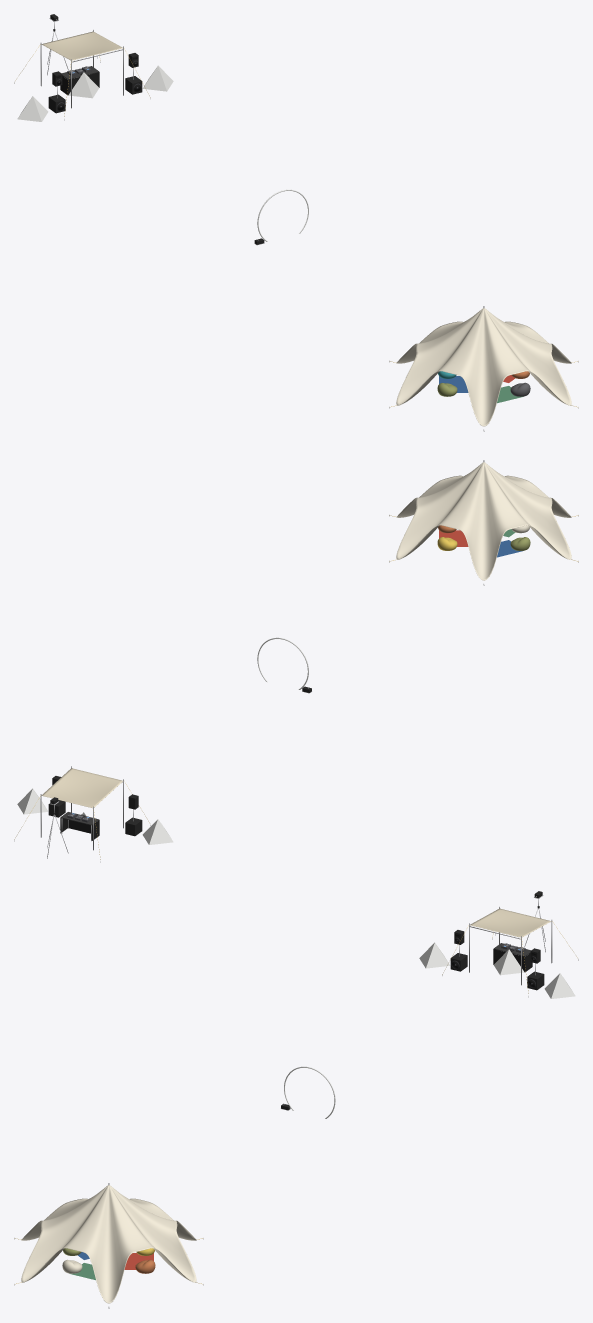
Rendered from outdoor-tarp.glb.
The picture shows the model from 3 angles, top to bottom: view 1: azimuth 30°, elevation 25°; view 2: azimuth 150°, elevation 25°; view 3: azimuth 330°, elevation 25°; orthographic projection.
Visible parts, largest first — view 1: Star_Tent, Tarp; view 2: Star_Tent, Tarp; view 3: Star_Tent, Tarp.
Boxes of the visible parts, x1,y1,x2,y2 form: Star_Tent: (396, 308, 571, 426); Tarp: (41, 31, 122, 60); Star_Tent: (396, 462, 571, 580); Tarp: (41, 768, 122, 808); Star_Tent: (21, 1185, 196, 1303); Tarp: (470, 908, 551, 937).
Bounding box in the file's own units: 10.92 × 4.35 × 48.24.
